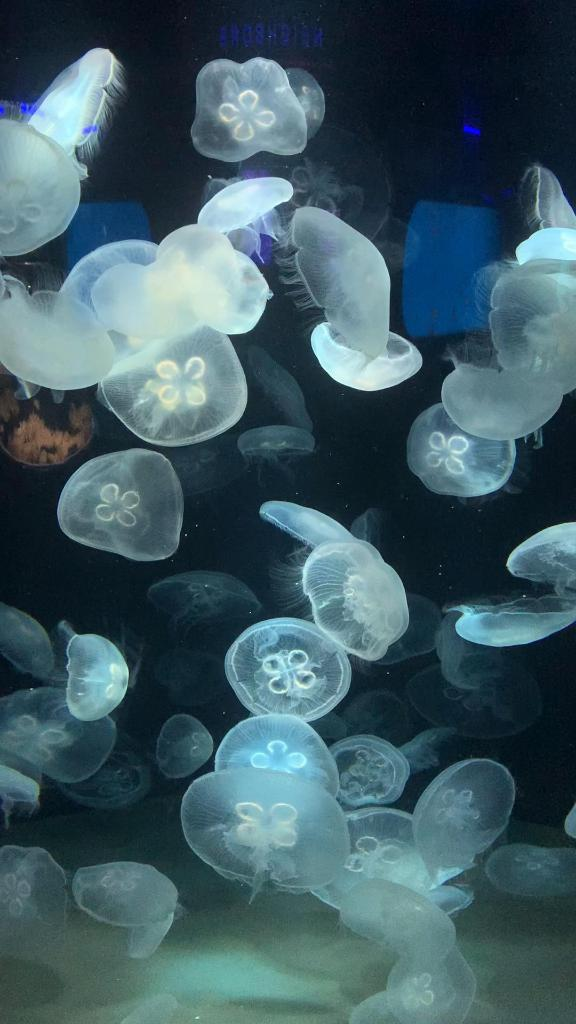jellyfish: (226, 119, 390, 263), (176, 771, 352, 901), (98, 314, 256, 450), (303, 807, 463, 923), (281, 202, 403, 354), (281, 537, 411, 667), (51, 439, 185, 565), (1, 268, 121, 402), (59, 232, 181, 362), (184, 52, 318, 170), (7, 80, 113, 226), (26, 34, 142, 166), (221, 616, 351, 730), (214, 710, 338, 824), (475, 258, 575, 398), (398, 404, 526, 508), (434, 344, 564, 446), (416, 758, 526, 876), (2, 687, 120, 787), (164, 232, 272, 340), (306, 312, 425, 398), (408, 660, 546, 734), (146, 562, 264, 646), (72, 856, 180, 942), (0, 841, 76, 963), (134, 412, 242, 496), (454, 592, 574, 666), (343, 875, 461, 949), (194, 170, 298, 252), (501, 163, 575, 277), (382, 939, 482, 1023), (260, 492, 364, 570), (49, 630, 133, 716), (54, 740, 152, 812), (324, 734, 408, 810), (482, 838, 574, 902), (155, 644, 237, 712), (255, 64, 325, 140), (3, 600, 64, 686), (506, 518, 574, 594), (241, 425, 321, 487), (151, 709, 217, 783), (354, 678, 414, 746), (347, 988, 438, 1022), (564, 804, 574, 840)
